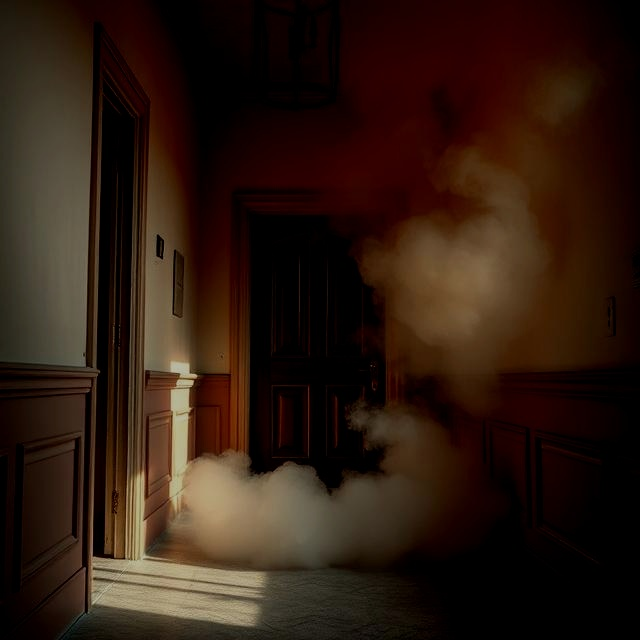smoke: (153, 74, 593, 587)
